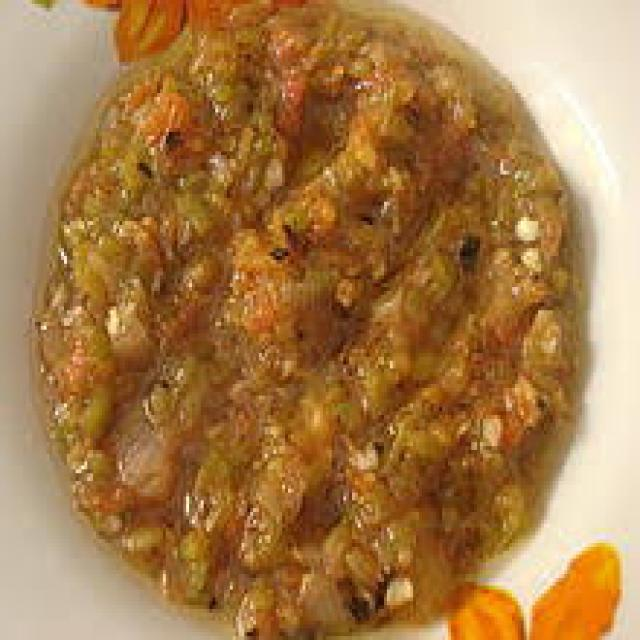Salade mechweya: (45, 8, 603, 605)
